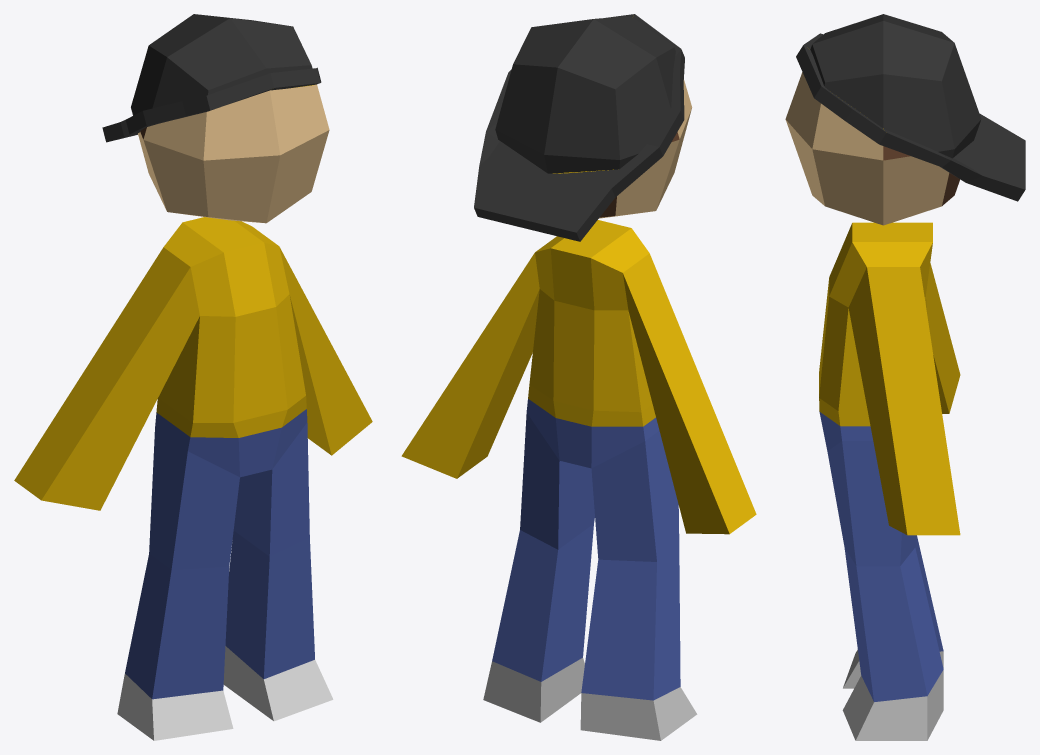
File: newboy1.fbx
The picture shows the model from 3 angles, left to right: view 1: azimuth 30°, elevation 25°; view 2: azimuth 150°, elevation 25°; view 3: azimuth 270°, elevation 25°; orthographic projection. The views are drawn at different scales.
Parts seen in each view (by area): view 1: Cube; view 2: Cube; view 3: Cube.
Boxes of the visible parts, <box> form: Cube: <box>14,14,372,740</box>; Cube: <box>401,14,756,740</box>; Cube: <box>785,14,1025,740</box>.
Bounding box in the file's own units: 321 × 641 × 206.
